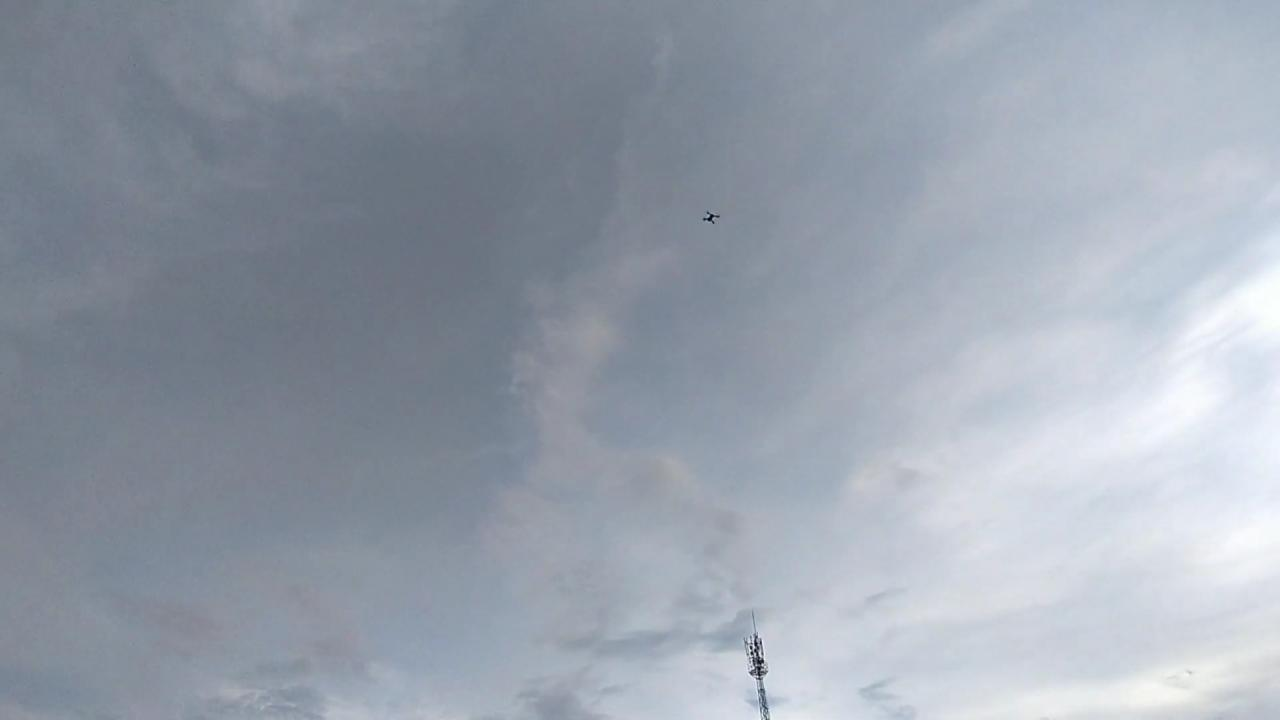Drone: (691, 200, 729, 236)
